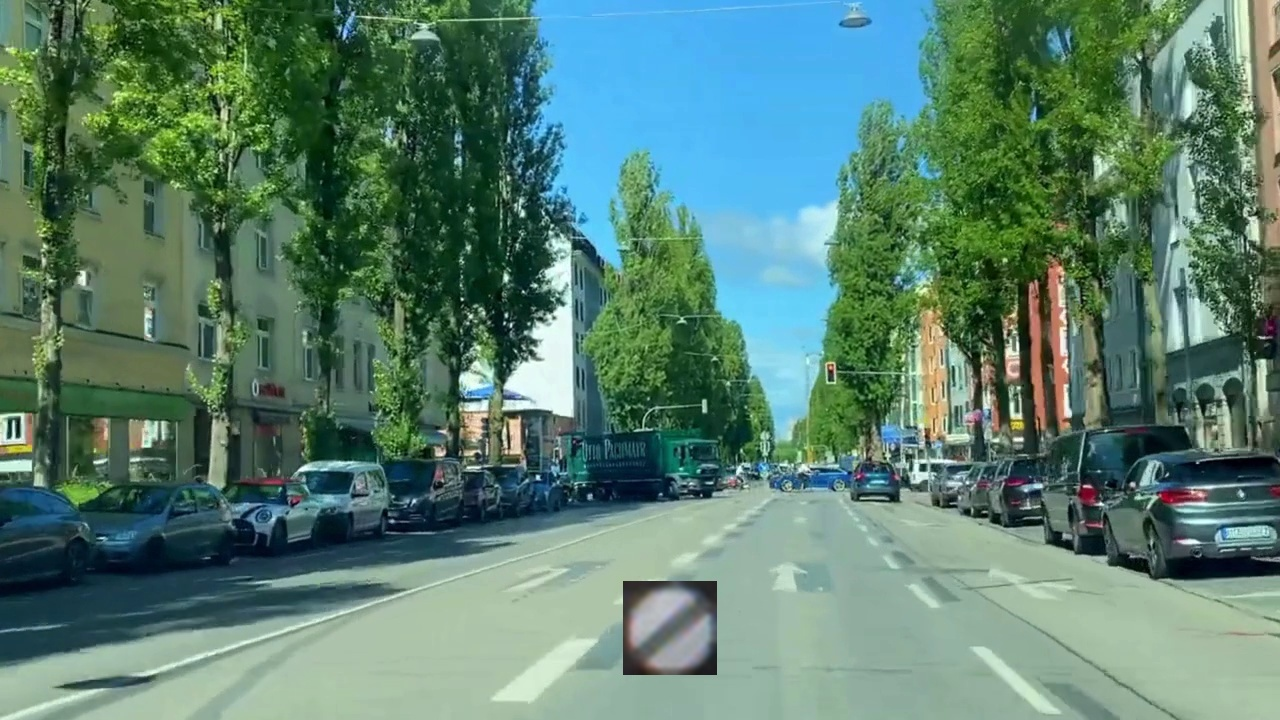End limits: (623, 581, 717, 675)
